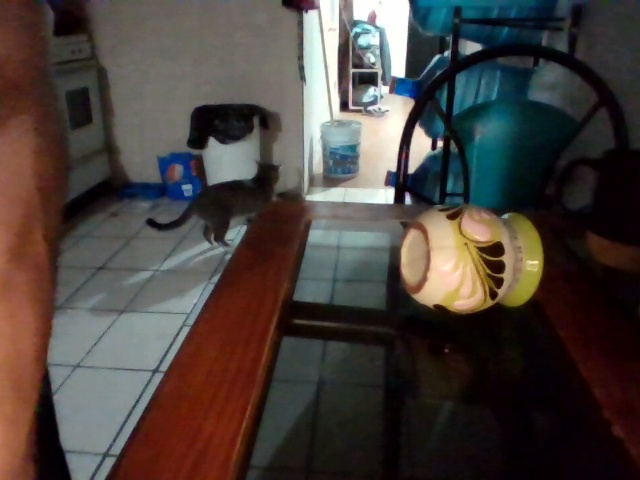taza: (348, 19, 388, 114)
